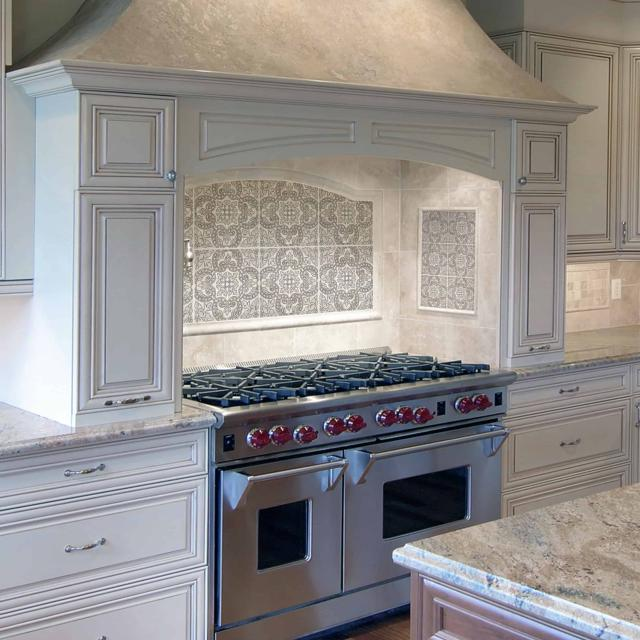Appliance_Oven: (185, 348, 517, 640)
Cabinet_Raised_Panel: (0, 428, 211, 640), (512, 37, 640, 361), (77, 93, 180, 412), (501, 361, 640, 519)
Countertop_Granite: (393, 483, 640, 640), (0, 401, 220, 446), (513, 331, 640, 373)
